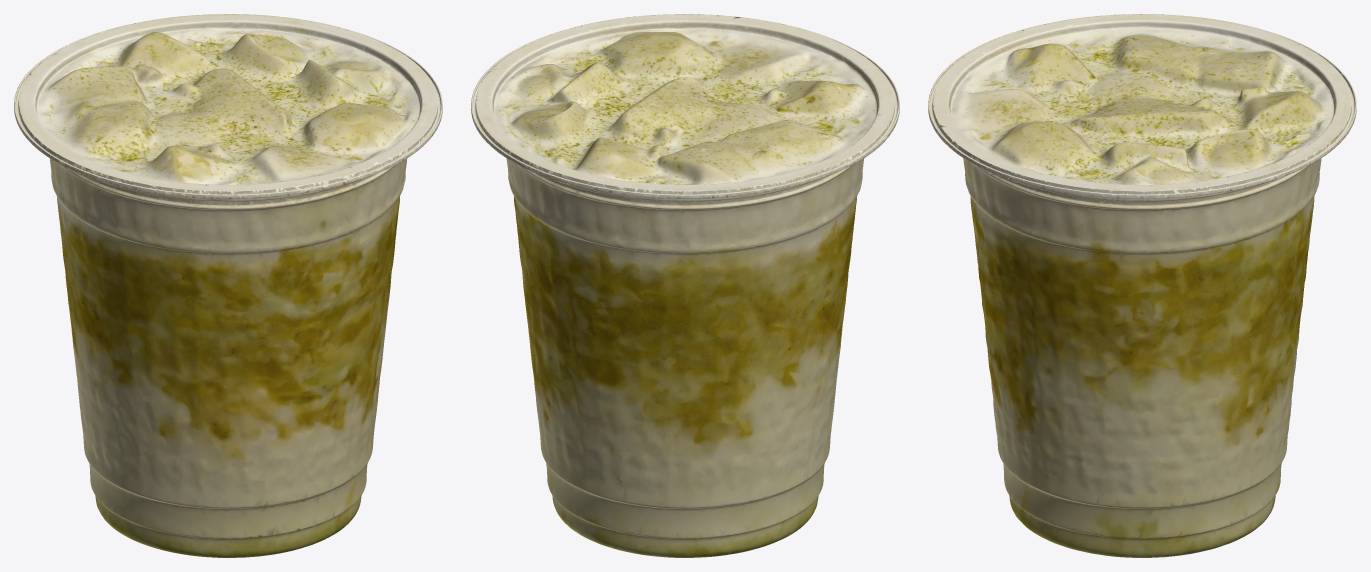
The model's file is pistachio-dream-web.glb.
3 views of the same model, side by side, from view 1: azimuth 30°, elevation 25°; view 2: azimuth 150°, elevation 25°; view 3: azimuth 270°, elevation 25° (orthographic).
Bounding box in the file's own units: 1.79 × 1.9 × 1.79.
Materials: 1 (1 with a texture image).
